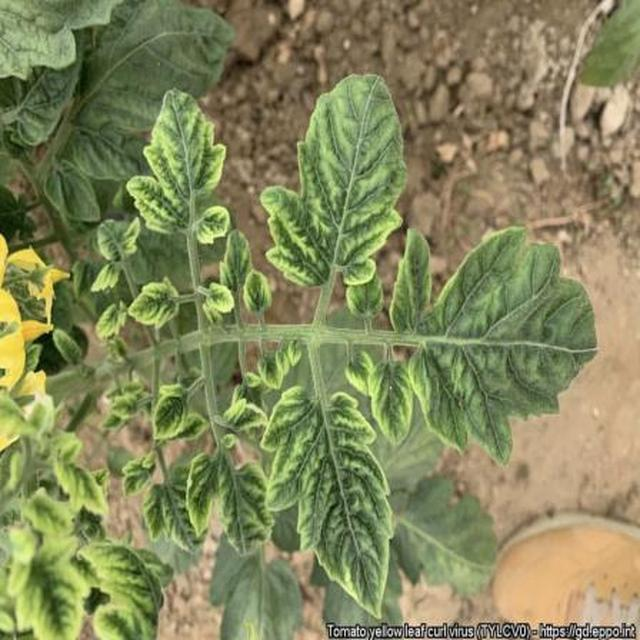Yellow Leaf Curl Virus: (59, 81, 640, 640)
